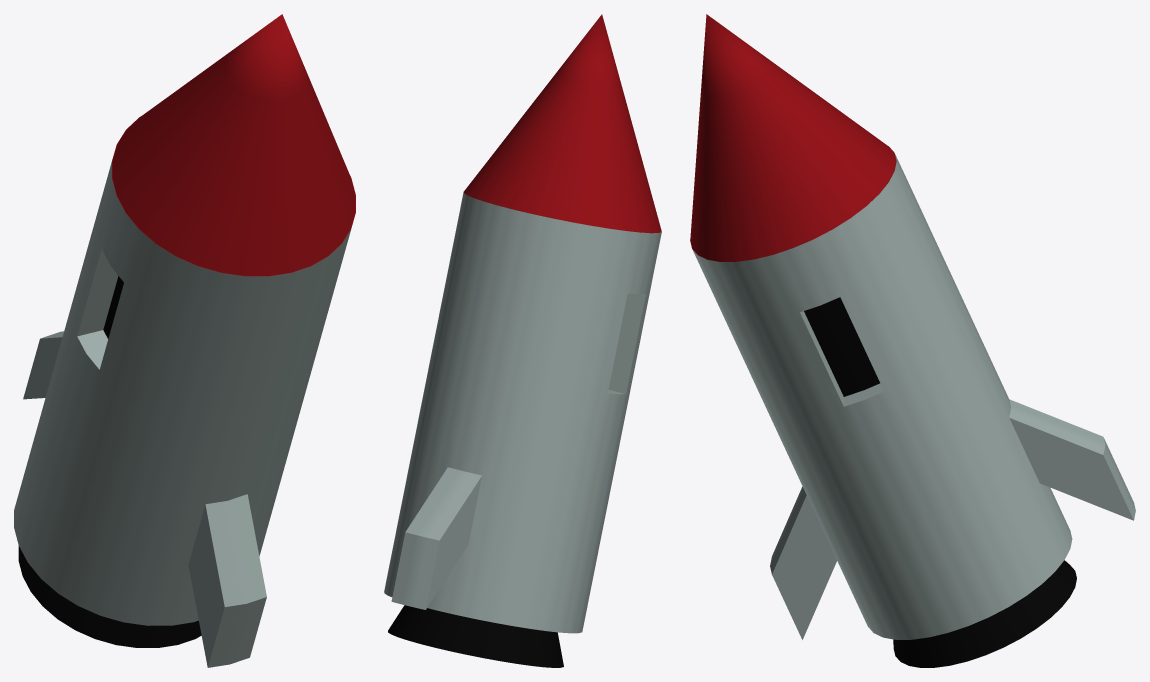
File: boost_pickup.fbx
3 views of the same model, side by side, from view 1: azimuth 30°, elevation 25°; view 2: azimuth 150°, elevation 25°; view 3: azimuth 270°, elevation 25° (orthographic). The views are drawn at different scales.
Parts seen in each view (by area): view 1: Cylinder; view 2: Cylinder; view 3: Cylinder.
Part boxes in pixels (x1,y1,x2,y2): Cylinder: (14, 14, 355, 667); Cylinder: (384, 14, 661, 667); Cylinder: (690, 14, 1135, 667).
Size of the model in its own units: 92.1 by 288 by 183.
